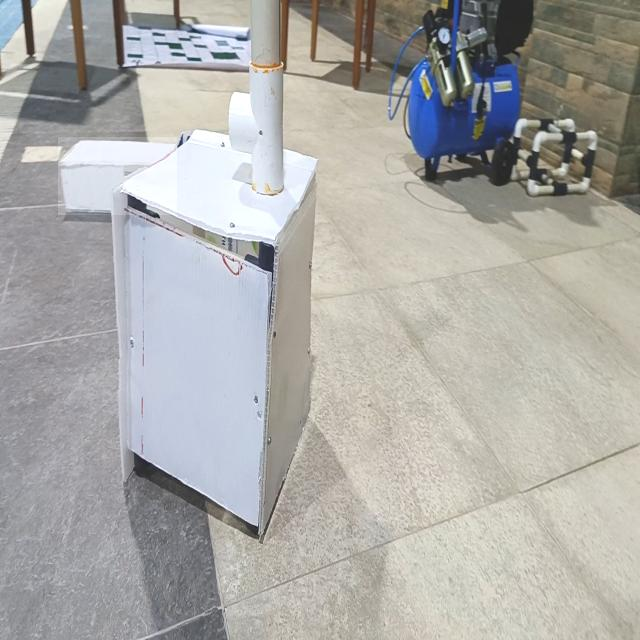Cube: (110, 127, 318, 540)
Cuboid: (58, 137, 177, 215)
